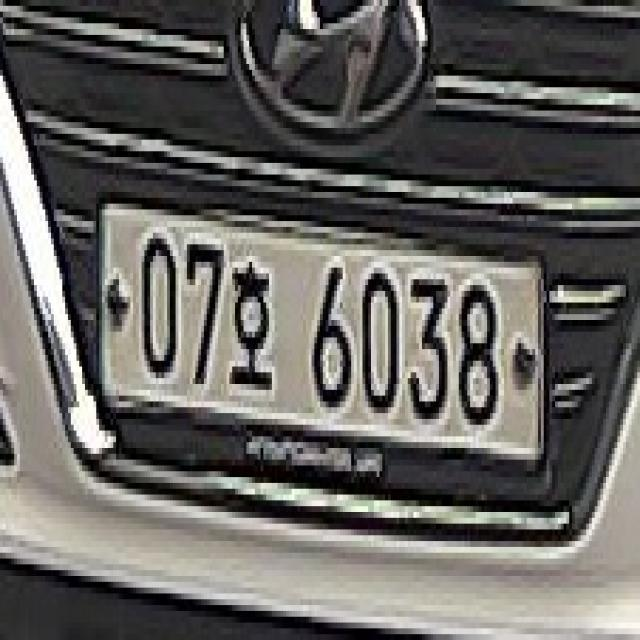0: (138, 224, 184, 390), (361, 258, 404, 424)
3: (406, 268, 453, 426)
6: (305, 248, 355, 424)
7: (186, 240, 226, 398)
8: (458, 268, 503, 433)
ho: (229, 249, 278, 406)
license_plate: (86, 180, 556, 469)
